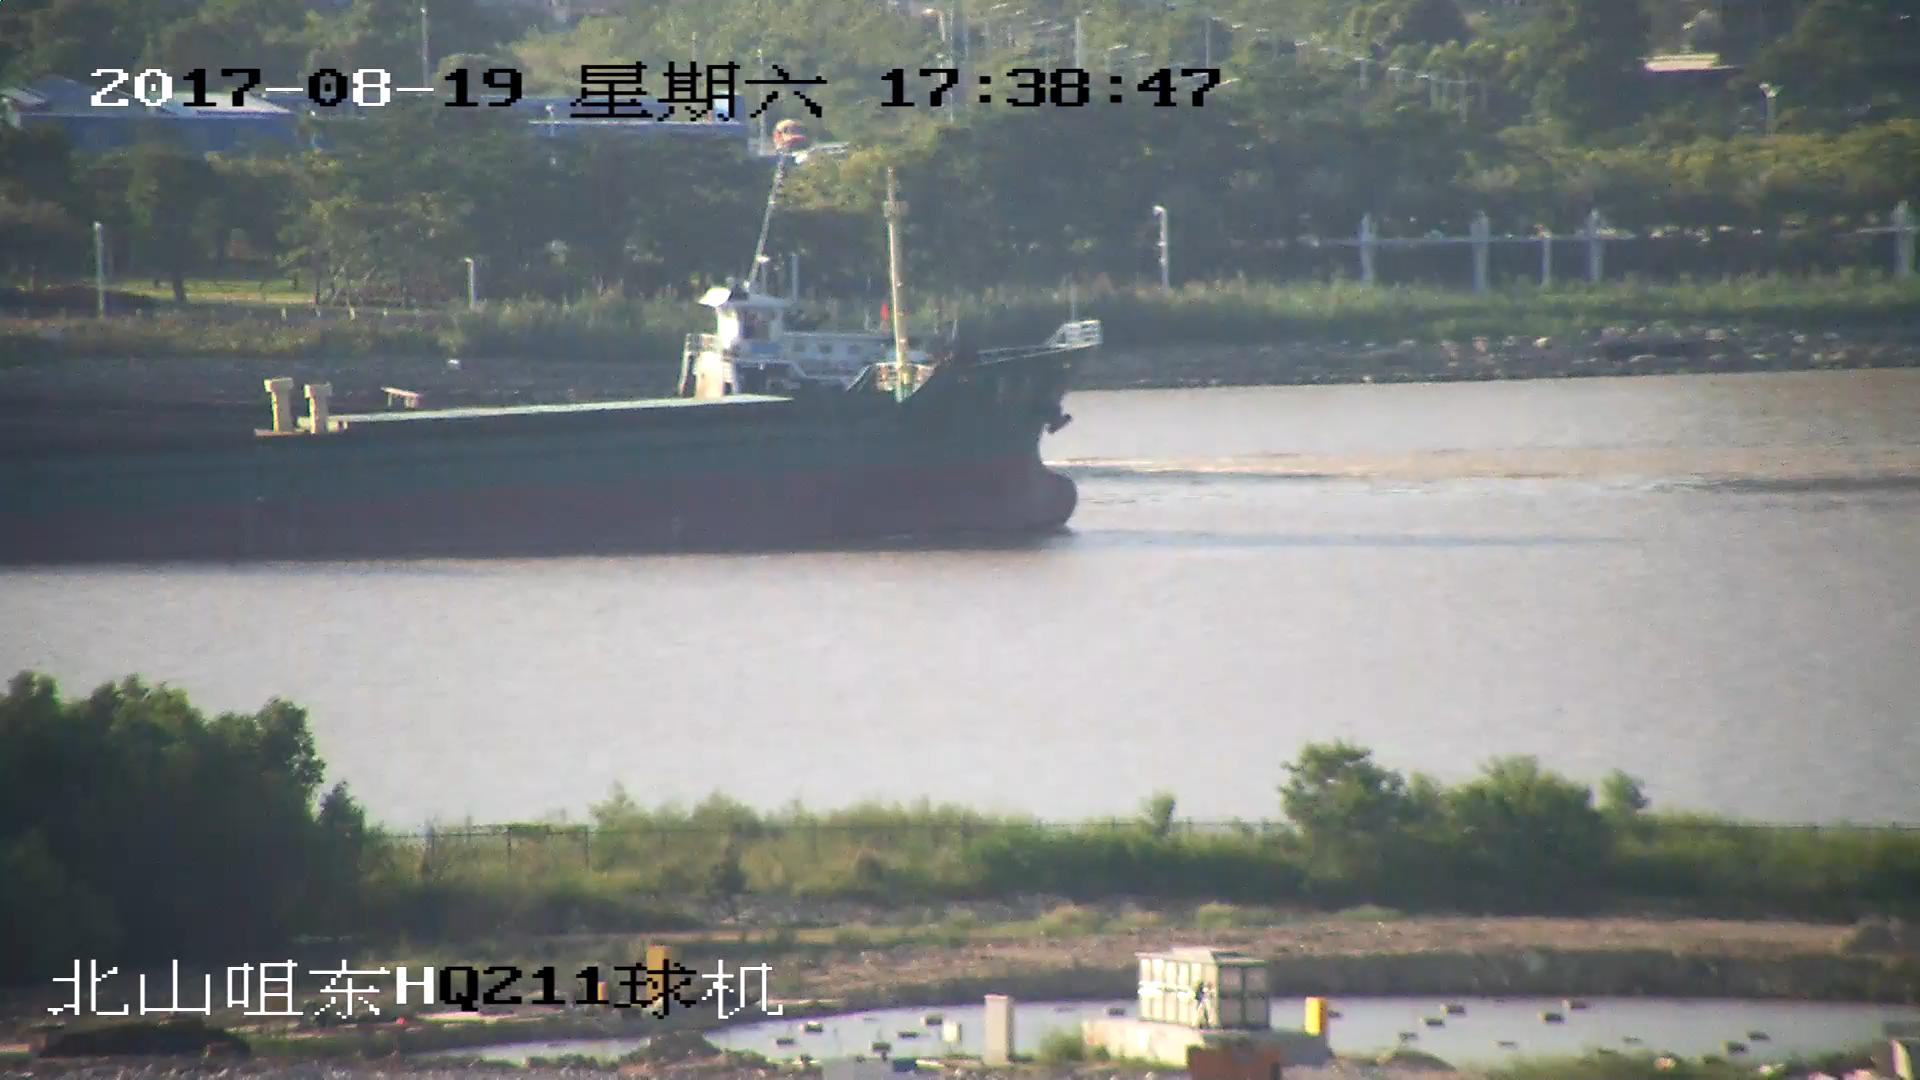general cargo ship: (1, 310, 1089, 547)
